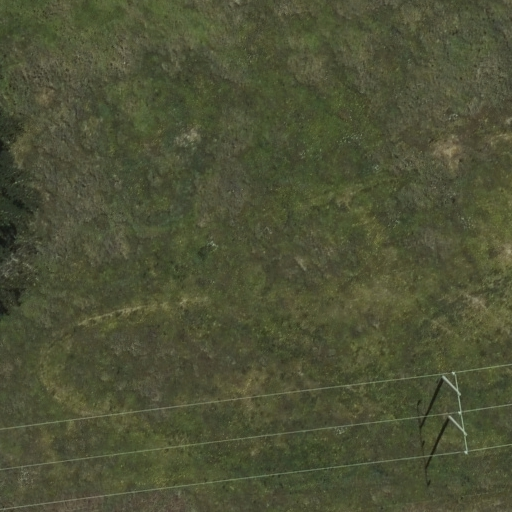DT: (431, 357, 488, 463)
